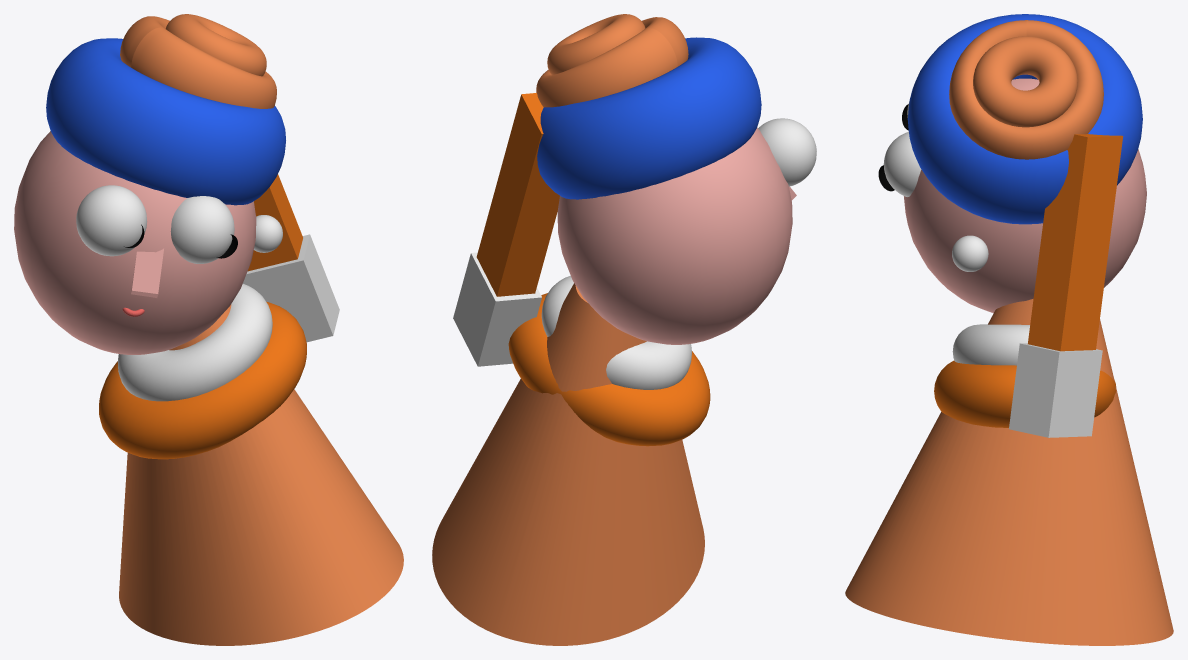
Rendered from girl.glb.
3 views of the same model, side by side, from view 1: azimuth 30°, elevation 25°; view 2: azimuth 150°, elevation 25°; view 3: azimuth 270°, elevation 25° (orthographic). The views are drawn at different scales.
Parts seen in each view (by area): view 1: Torus.009; view 2: Torus.009; view 3: Torus.009.
Boxes of the visible parts, x1=… form: Torus.009: x1=14, y1=14, x2=403, y2=645; Torus.009: x1=432, y1=14, x2=816, y2=645; Torus.009: x1=845, y1=14, x2=1173, y2=645.
Bounding box in the file's own units: 3.63 × 6.22 × 3.21.
